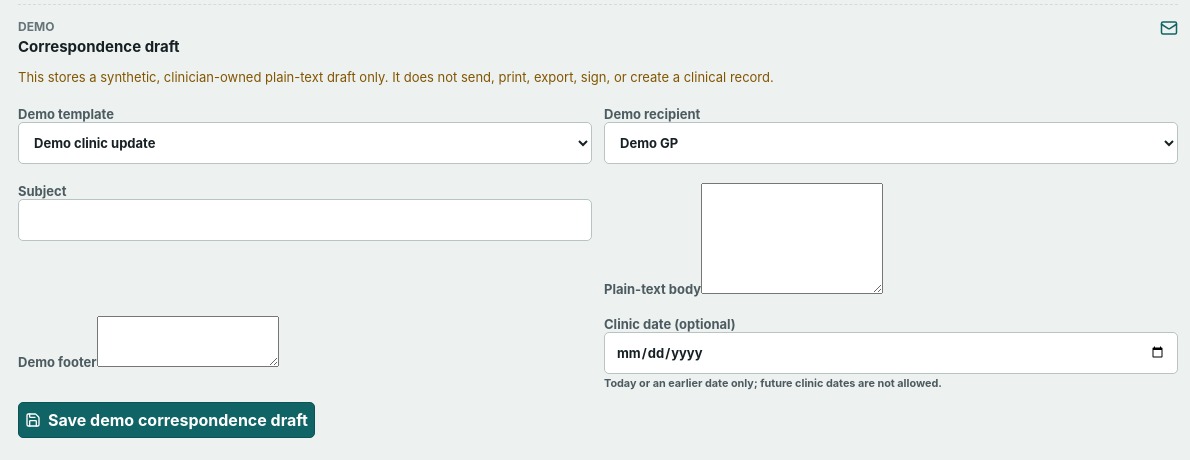
Test: CorrespondenceDraftDemo › explains that future clinic dates are not allowed
Type "Demo update" into the field labelled "Subject" at [305, 220], box [18,199,592,241]
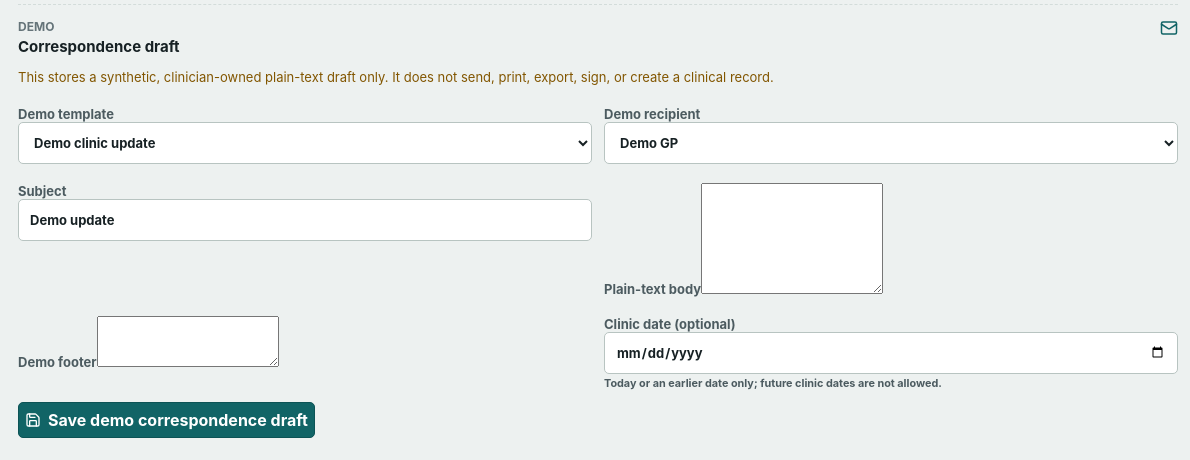
Type "A plain text letter." into the text box labelled "Plain-text body" at [792, 238], box [701,183,883,294]
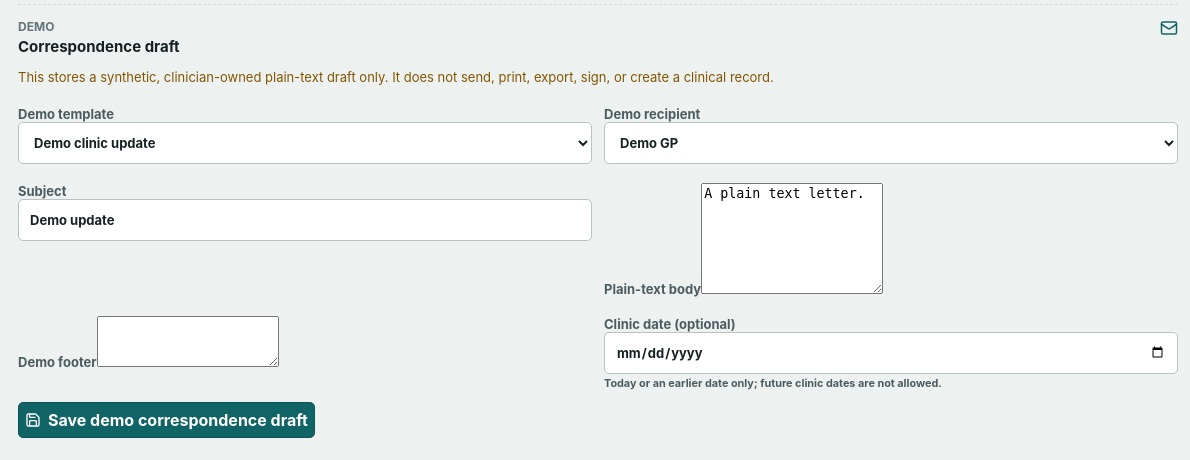
Type "2999-01-01" into the date field labelled "Clinic date (optional)" at [891, 353], box [604,332,1178,374]
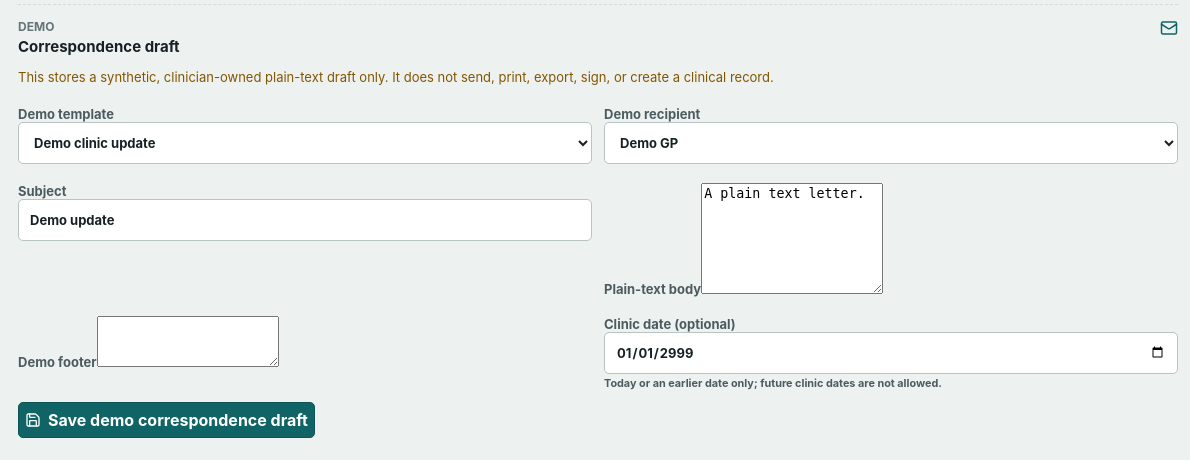
Click the button "Save demo correspondence draft" at [166, 420], box [18,402,315,438]
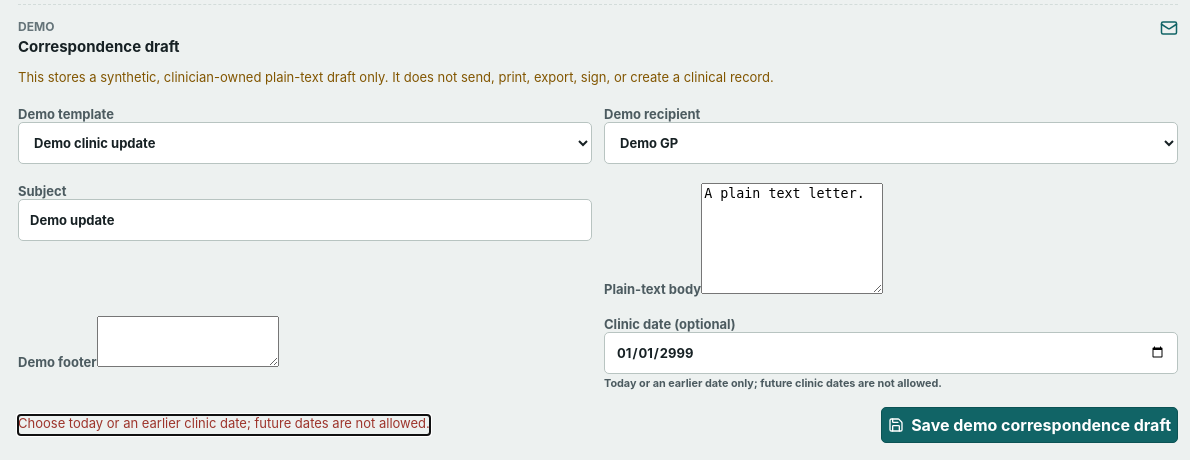
Result: the message shows "future dates are not allowed" at [18,415,430,431]
